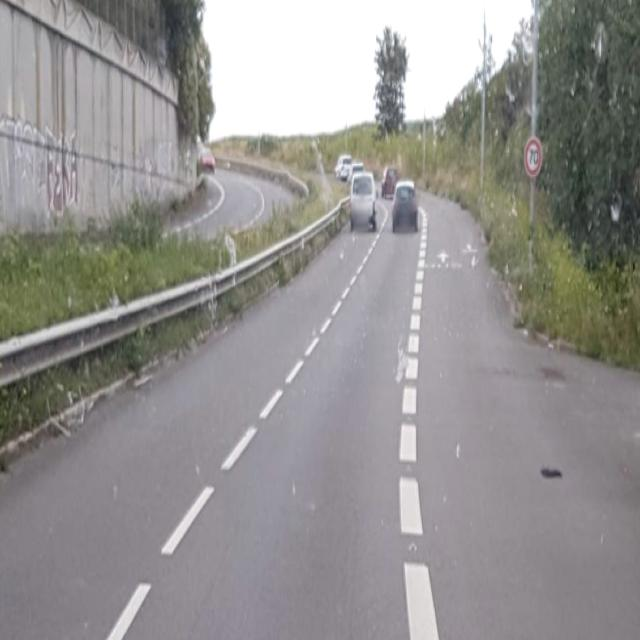speed_70: (524, 140, 542, 175)
